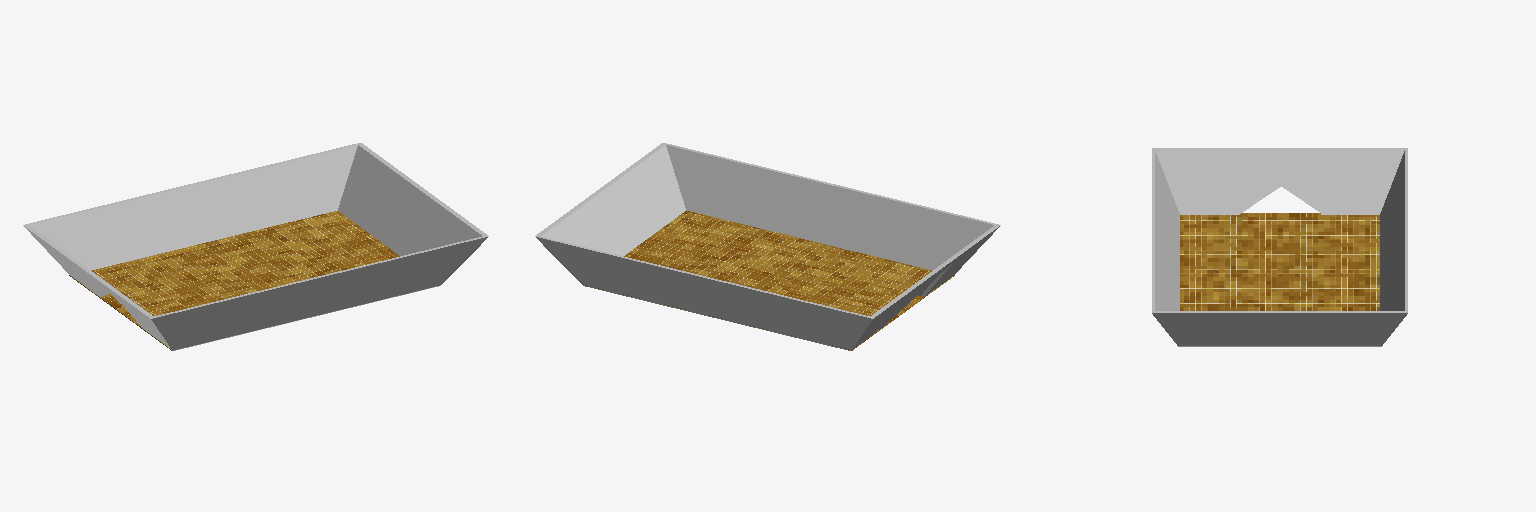
The picture shows the model from 3 angles: view 1: azimuth 30°, elevation 25°; view 2: azimuth 150°, elevation 25°; view 3: azimuth 270°, elevation 25°; orthographic projection.
Parts seen in each view (by area): view 1: Room15, Piso1; view 2: Room15, Piso1; view 3: Room15, Piso1.
Part boxes in pixels (bbox=[...]): Room15: bbox=[23, 143, 488, 350]; Piso1: bbox=[69, 211, 399, 349]; Room15: bbox=[535, 143, 1000, 350]; Piso1: bbox=[582, 211, 954, 350]; Room15: bbox=[1152, 148, 1407, 346]; Piso1: bbox=[1180, 213, 1379, 310].
Size of the model in its own units: 35 by 5 by 23.
Materials: 3 (1 with a texture image).